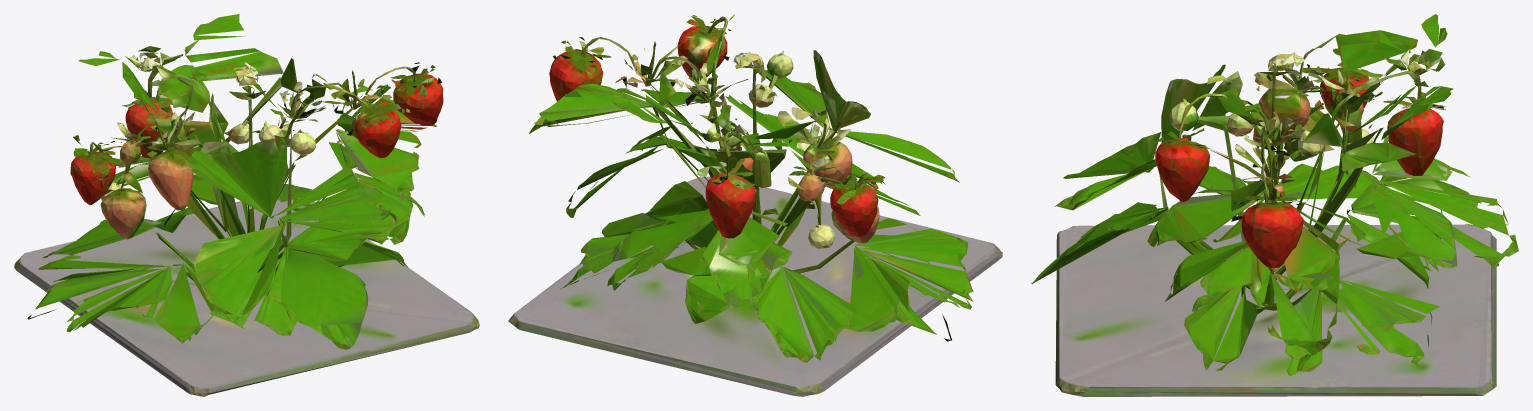
The model's file is strawberry_baked_base_plate.glb.
The picture shows the model from 3 angles, left to right: view 1: azimuth 30°, elevation 25°; view 2: azimuth 150°, elevation 25°; view 3: azimuth 270°, elevation 25°; orthographic projection. The views are drawn at different scales.
Parts seen in each view (by area): view 1: world; view 2: world; view 3: world.
Part boxes in pixels (left/top/right/bottom): world: left=14, top=14, right=479, bottom=396; world: left=508, top=14, right=1002, bottom=396; world: left=1031, top=14, right=1518, bottom=396.
Size of the model in its own units: 1.71 by 0.9434 by 1.55.
1 material, 1 textured.
